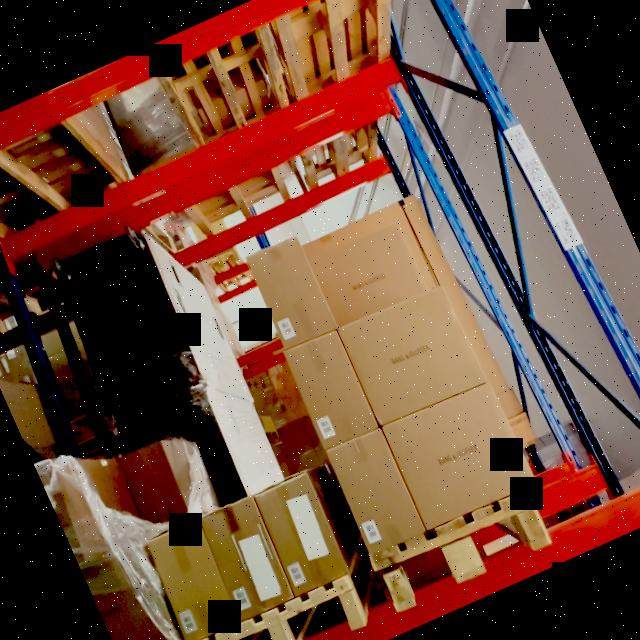box: (51, 232, 204, 418), (340, 288, 488, 432), (383, 387, 532, 524), (304, 205, 434, 327), (328, 430, 428, 556), (198, 494, 294, 619), (252, 473, 350, 593), (286, 335, 382, 455), (147, 521, 240, 640), (250, 235, 342, 350), (118, 438, 188, 528)
